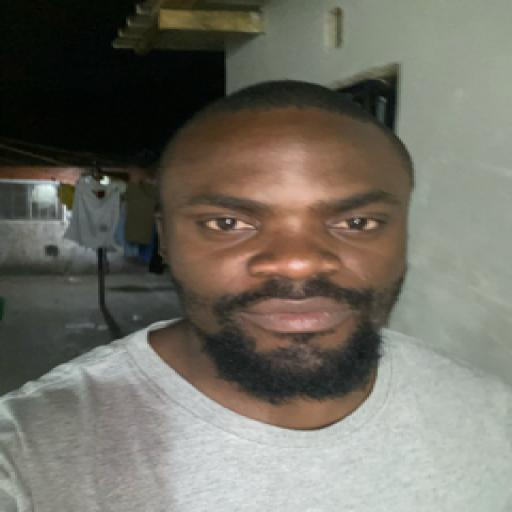JEANLUC: (162, 64, 407, 417)
